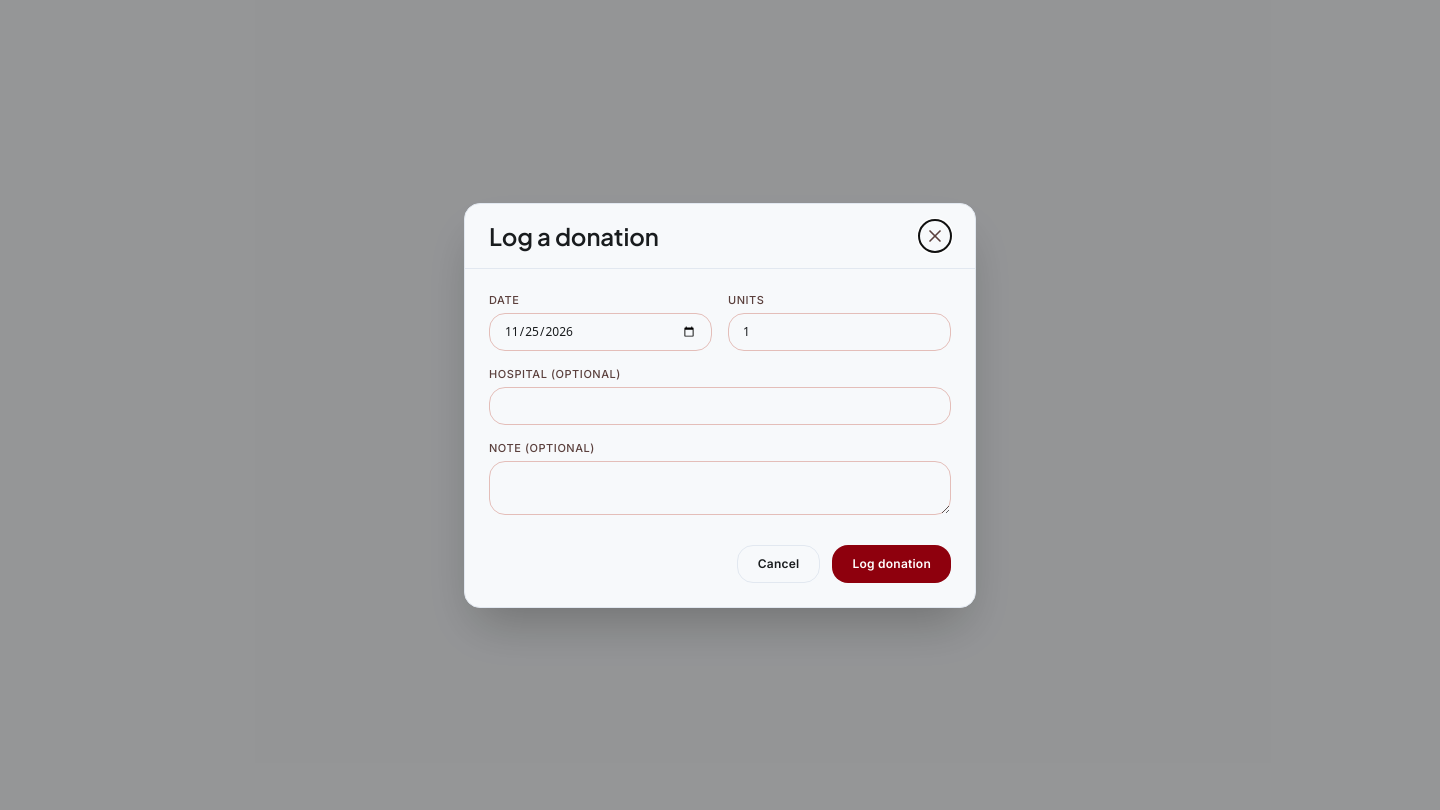
Test: LogDonationModal › keeps a real mutation error visible and does NOT close the modal (no fabricated success)
This screenshot has width=1440, height=810.
Type "2026-01-05" into the date field labelled "Date" at (600, 332), box 489,312 -> 712,350
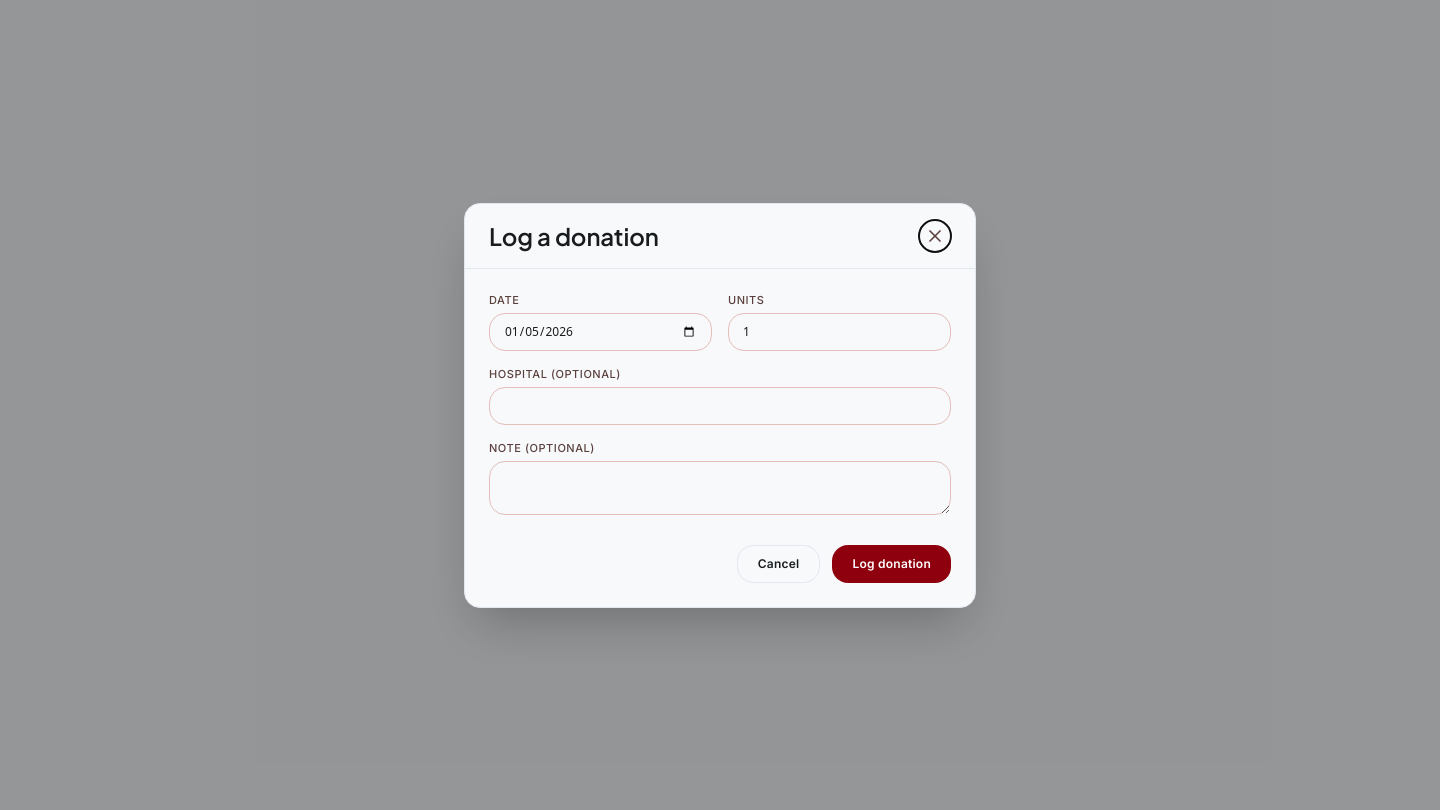
Click the button "Log donation" at (892, 564), box 832,544 -> 951,582
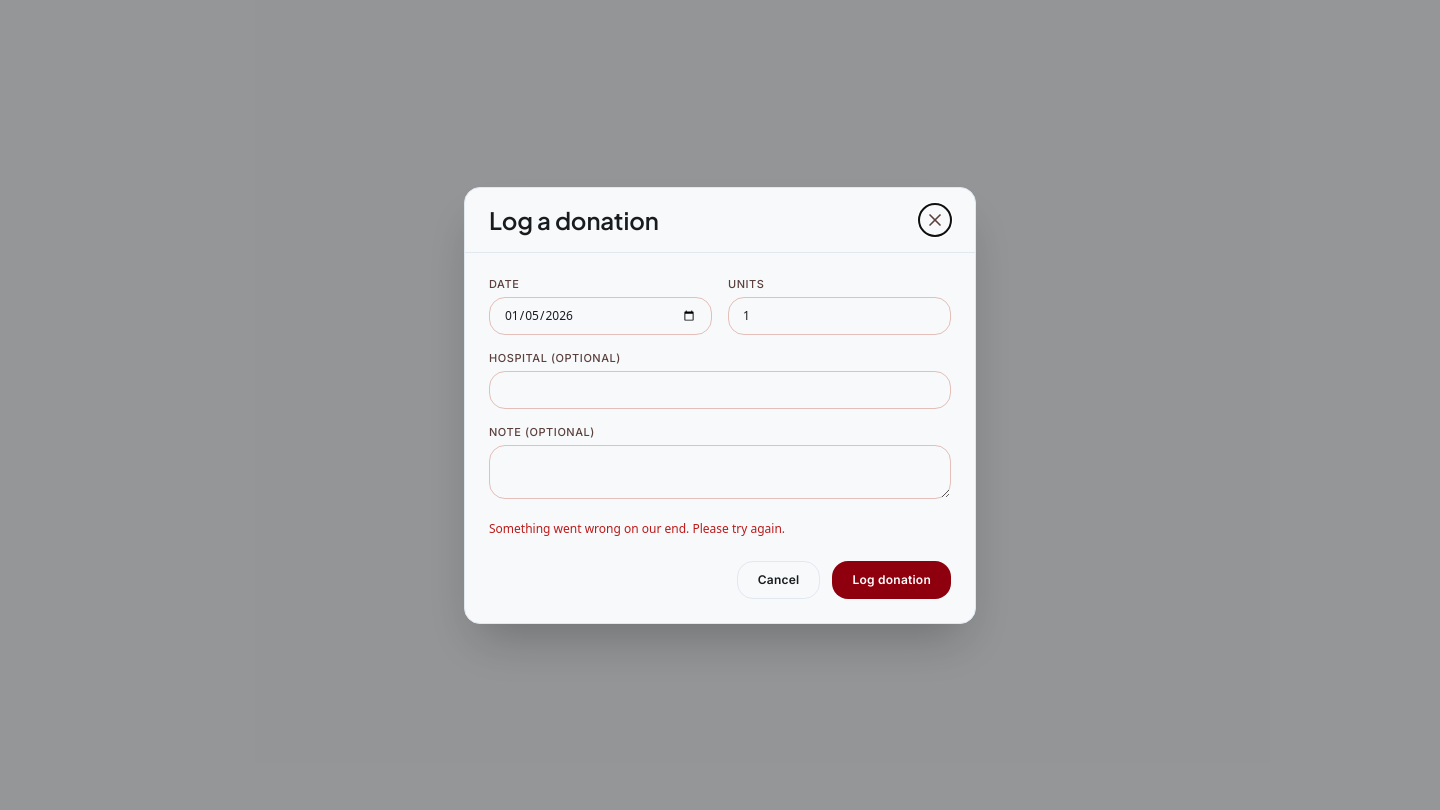
Result: the text "Something went wrong on our end. Please try again." is shown at 489,520 -> 785,536
